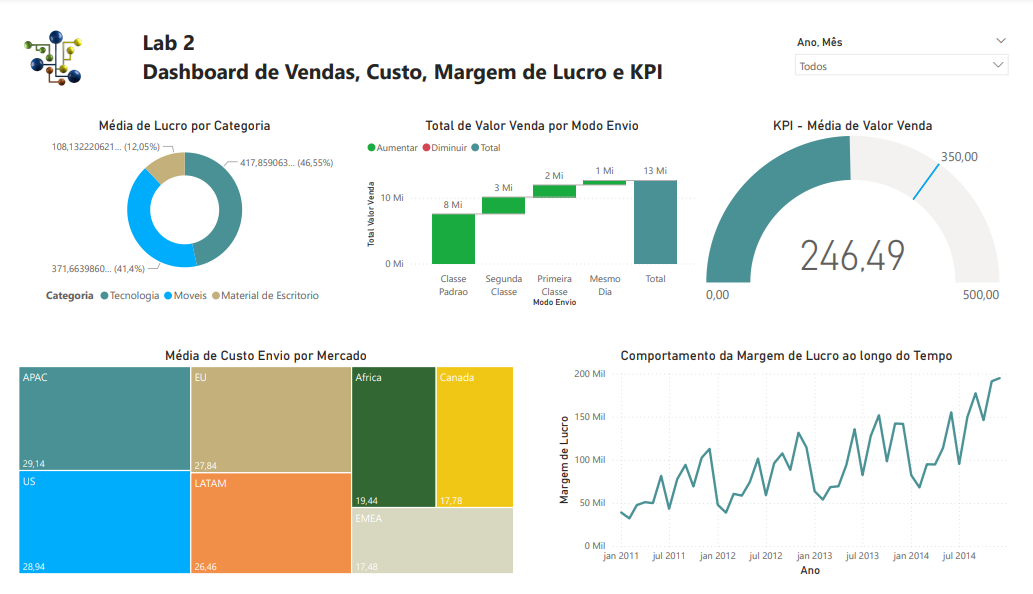

This screenshot's page, from the dashboard's own definition file:
{"tool":"powerbi","page":{"name":"Lab2","canvas":[1280,720],"ordinal":0},"visuals":[{"type":"waterfallChart","title":"Total de Valor Venda por Modo Envio","fields":{"Category":["Pedidos.Modo Envio"],"Y":["Sum(Vendas.Valor Venda)"]},"box":[443.6,128.9,431.3,246.6],"z":0},{"type":"treemap","fields":{"Group":["Clientes.Mercado"],"Values":["Avg(Vendas.Custo Envio)"]},"box":[0,423.1,640,292.9],"z":1000},{"type":"gauge","title":"KPI - Média de Valor Venda","fields":{"Y":["Avg(Vendas.Valor Venda)"]},"box":[874.9,128.9,384.2,246.6],"z":2000},{"type":"slicer","title":"F","fields":{"Values":["Pedidos.Data Pedido.Variation.Hierarquia de datas.Ano","Pedidos.Data Pedido.Variation.Hierarquia de datas.Mês"]},"box":[983.1,20.3,291.5,66.4],"z":3000},{"type":"donutChart","fields":{"Category":["Produtos.Categoria"],"Y":["Avg(Vendas.Lucro)"]},"box":[0,128.9,432.5,246.6],"z":4000},{"type":"lineChart","title":"Comportamento da Margem de Lucro ao longo do Tempo","fields":{"Category":["Pedidos.Data Pedido.Variation.Hierarquia de datas.Ano","Pedidos.Data Pedido.Variation.Hierarquia de datas.Trimestre","Pedidos.Data Pedido.Variation.Hierarquia de datas.Mês","Pedidos.Data Pedido.Variation.Hierarquia de datas.Dia"],"Y":["Sum(Vendas.MargemLucro)"]},"box":[686.1,423.1,593.9,295.6],"z":5000},{"type":"textbox","box":[157.3,9.5,809.5,89.5],"z":6000},{"type":"image","box":[0,10.8,97.6,86.8],"z":7000}]}

Visuals, with their boxes in screenshot pixels (x1, y1, x2, y2), scaled from the page's 1280x720 canvas onto the 1033x594 screenshot:
"Total de Valor Venda por Modo Envio" waterfallChart: 358, 106, 706, 310
treemap - Clientes.Mercado x Avg(Vendas.Custo Envio): 0, 349, 516, 591
"KPI - Média de Valor Venda" gauge: 706, 106, 1016, 310
"F" slicer: 793, 17, 1029, 72
donutChart - Produtos.Categoria x Avg(Vendas.Lucro): 0, 106, 349, 310
"Comportamento da Margem de Lucro ao longo do Tempo" lineChart: 554, 349, 1032, 593
textbox: 127, 8, 780, 82
image: 0, 9, 79, 81
